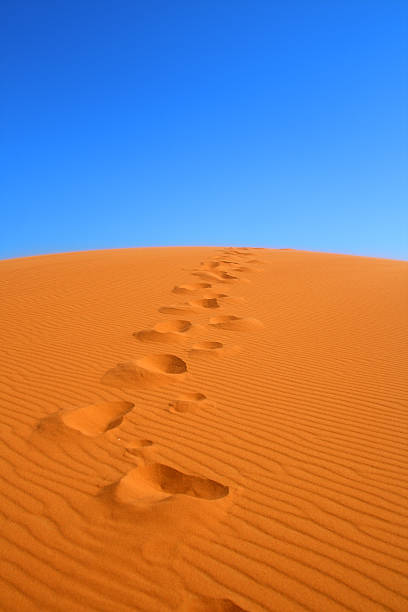human_foot_print: (36, 400, 133, 436), (101, 354, 186, 388), (133, 319, 198, 342), (168, 392, 213, 413), (209, 315, 262, 330)
